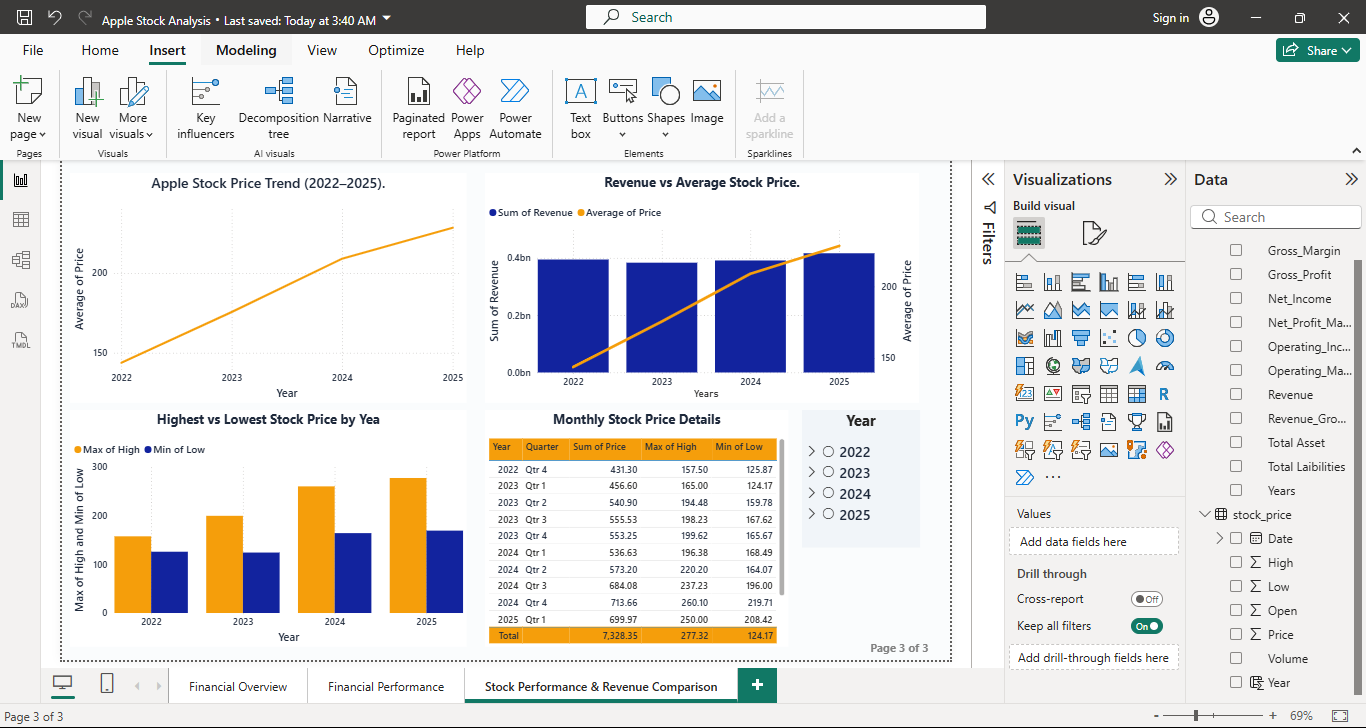

The dashboard page shown, as its layout file describes it:
{"tool":"powerbi","page":{"name":"Stock Performance & Revenue Comparison","canvas":[1280,720],"ordinal":2},"visuals":[{"type":"lineChart","title":"Apple Stock Price Trend (2022–2025).","fields":{"Category":["stock_price.Date.Variation.Date Hierarchy.Year"],"Y":["Avg(stock_price.Price)"]},"box":[11.8,18.5,571.1,330.9],"z":0},{"type":"lineClusteredColumnComboChart","title":"Revenue vs Average Stock Price.","fields":{"Category":["finances.Years"],"Y":["Sum(finances.Revenue)"],"Y2":["Avg(stock_price.Price)"]},"box":[609.8,18.5,624.9,330.9],"z":1000},{"type":"clusteredColumnChart","title":"Highest vs Lowest Stock Price by Yea","fields":{"Y":["Max(stock_price.High)","Min(stock_price.Low)"],"Category":["stock_price.Year"]},"box":[11.8,359.5,571.1,341],"z":2000},{"type":"tableEx","title":"Monthly Stock Price Details","fields":{"Values":["stock_price.Date.Variation.Date Hierarchy.Year","stock_price.Date.Variation.Date Hierarchy.Month","Sum(stock_price.Price)","Max(stock_price.High)","Min(stock_price.Low)"]},"box":[609.8,359.5,436.7,341],"z":3000},{"type":"listSlicer","fields":{"Values":["stock_price.Date.Variation.Date Hierarchy.Year","stock_price.Date.Variation.Date Hierarchy.Quarter","stock_price.Date.Variation.Date Hierarchy.Month","stock_price.Date.Variation.Date Hierarchy.Day"]},"box":[1065,359.5,169.7,198.2],"z":4000},{"type":"textbox","box":[1159.2,686.9,103.7,33.1],"z":5000}]}

Visuals, with their boxes on the page's 1280x720 design canvas (x1, y1, x2, y2). These are canvas units, not pixel positions in the 1366x728 screenshot, which may show the page scaled, cropped or inside an application window:
"Apple Stock Price Trend (2022–2025)." lineChart: 12:18:583:349
"Revenue vs Average Stock Price." lineClusteredColumnComboChart: 610:18:1235:349
"Highest vs Lowest Stock Price by Yea" clusteredColumnChart: 12:360:583:700
"Monthly Stock Price Details" tableEx: 610:360:1046:700
listSlicer - stock_price.Date.Variation.Date Hierarchy.Year x stock_price.Date.Variation.Date Hierarchy.Quarter: 1065:360:1235:558
textbox: 1159:687:1263:720
